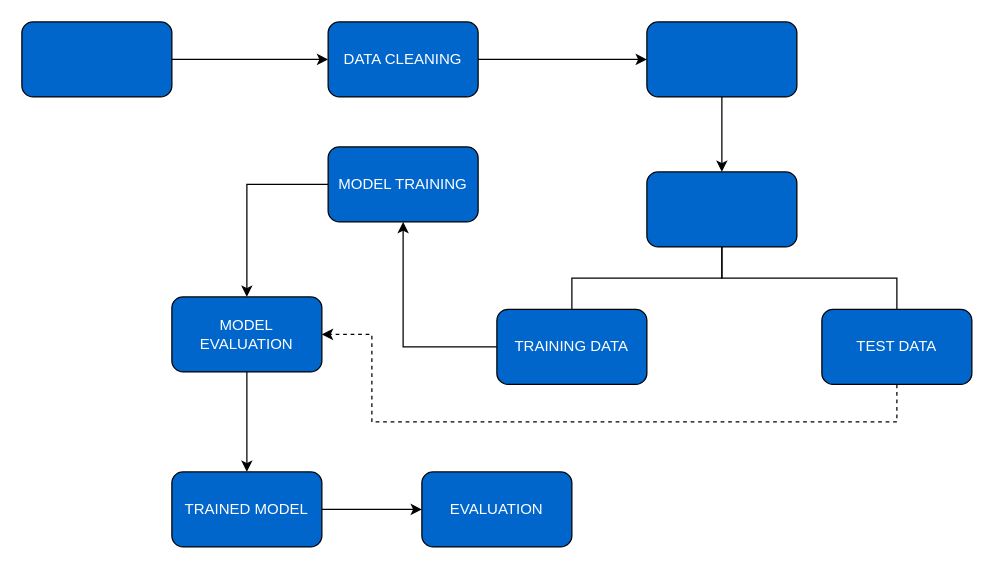
This 994x569 diagram has some shape labels left out. The centre of each missing label's shape, as x and y in pixels:
"DATA COLLECTION" goes at pixel 96 59.
"EXTRACT LINGUISTIC FEATURES" goes at pixel 721 59.
"FEATURE SELECTION" goes at pixel 721 209.
